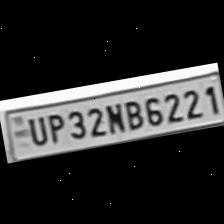1: (198, 81, 220, 115)
2: (176, 83, 203, 120), (81, 100, 107, 138), (159, 88, 183, 123)
3: (62, 105, 87, 140)
6: (140, 92, 164, 126)
B: (119, 95, 144, 130)
N: (100, 97, 125, 135)
P: (42, 108, 66, 144)
U: (22, 112, 48, 146)
